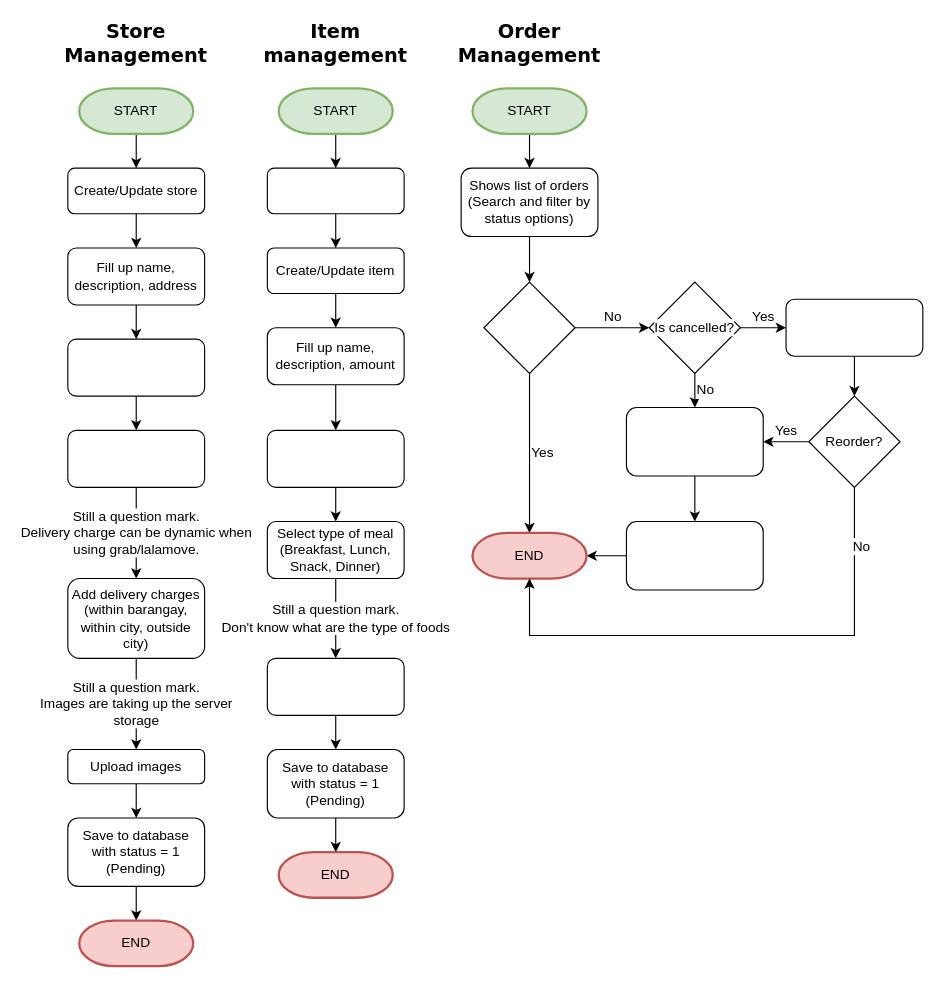
This 943x987 diagram has some shape labels left out. The shapes that lost their labels are listed below. From the top down, each one's centre as x and y in pixels, then its label:
At (335,190): "Select a store".
At (529,327): "Is delivered?".
At (854,327): "Can reorder. Update status = 2 (Pending)".
At (136,367): "Select type of delivery (Same/Next day delivery)".
At (136,458): "Select availability (Time-in/out and Days)".
At (335,458): "Select type of cuisine".
At (694,441): "Can add/remove item, edit quantity, and update status".
At (694,555): "Notify consumer (SMS, Email, Mobile App Notification)".
At (335,686): "Select type of food (Meats, Seafoods, etc)".
